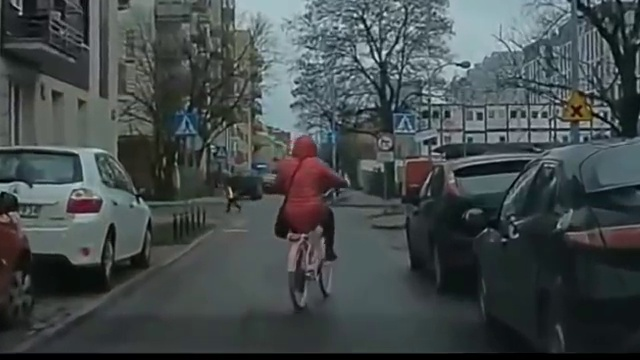cyclist_back: (269, 130, 347, 316)
